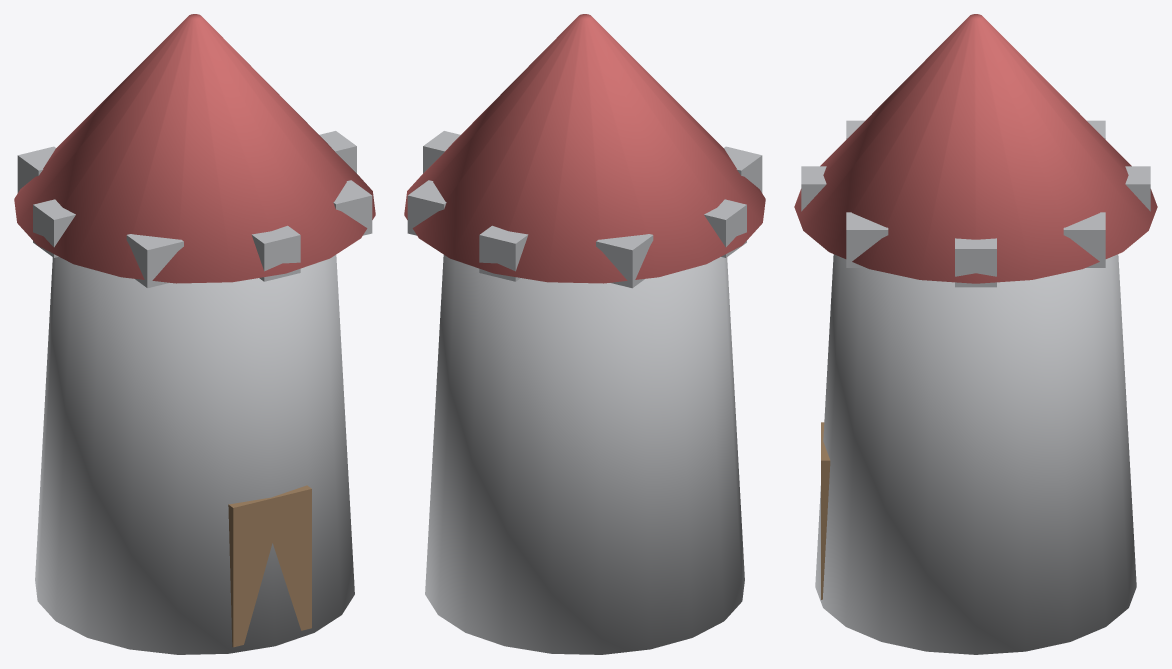
3 renders of one model, left to right at view 1: azimuth 30°, elevation 25°; view 2: azimuth 150°, elevation 25°; view 3: azimuth 270°, elevation 25°, orthographic.
Parts seen in each view (by area): view 1: Generated3DMesh; view 2: Generated3DMesh; view 3: Generated3DMesh.
Part boxes in pixels (bbox=[...]): Generated3DMesh: bbox=[14, 14, 375, 654]; Generated3DMesh: bbox=[404, 14, 765, 654]; Generated3DMesh: bbox=[794, 14, 1157, 654].
Size of the model in its own units: 2.6 by 4.5 by 2.6.
